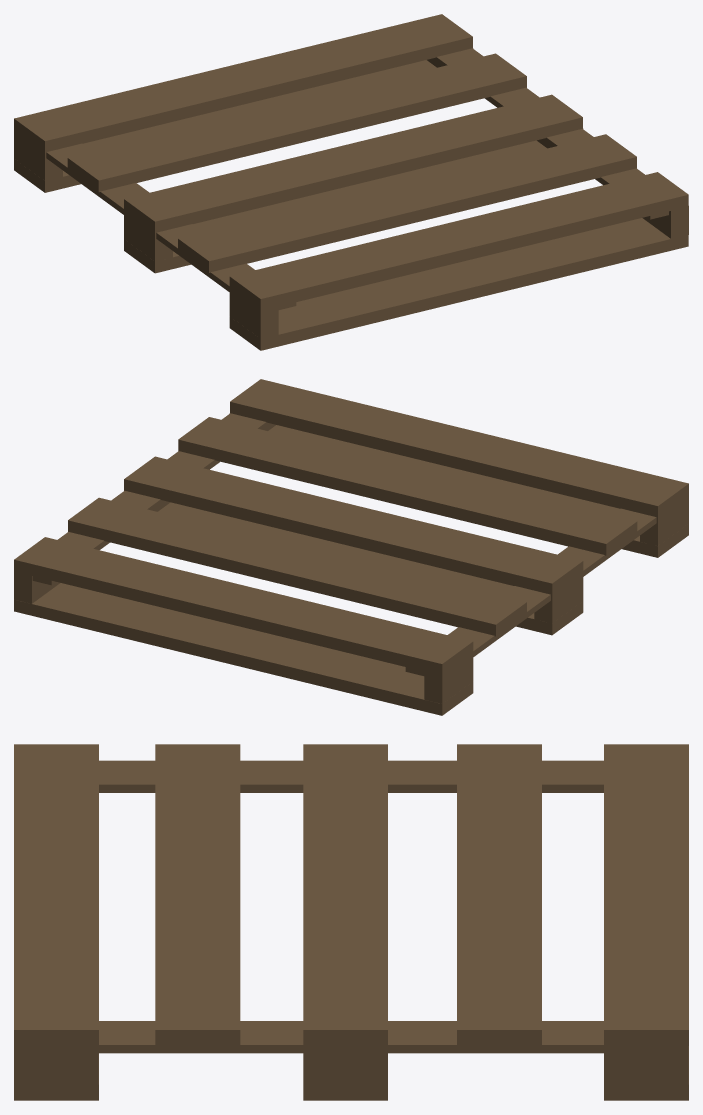
Rendered from O_Clutter_Pallet.fbx.
The picture shows the model from 3 angles, top to bottom: view 1: azimuth 30°, elevation 25°; view 2: azimuth 150°, elevation 25°; view 3: azimuth 270°, elevation 25°; orthographic projection. The views are drawn at different scales.
Parts seen in each view (by area): view 1: pCube26; view 2: pCube26; view 3: pCube26.
Boxes of the visible parts, x1,y1,x2,y2 form: pCube26: (14, 14, 688, 350); pCube26: (14, 379, 688, 715); pCube26: (14, 744, 688, 1100).
Size of the model in its own units: 3.03 by 0.3498 by 3.02.
